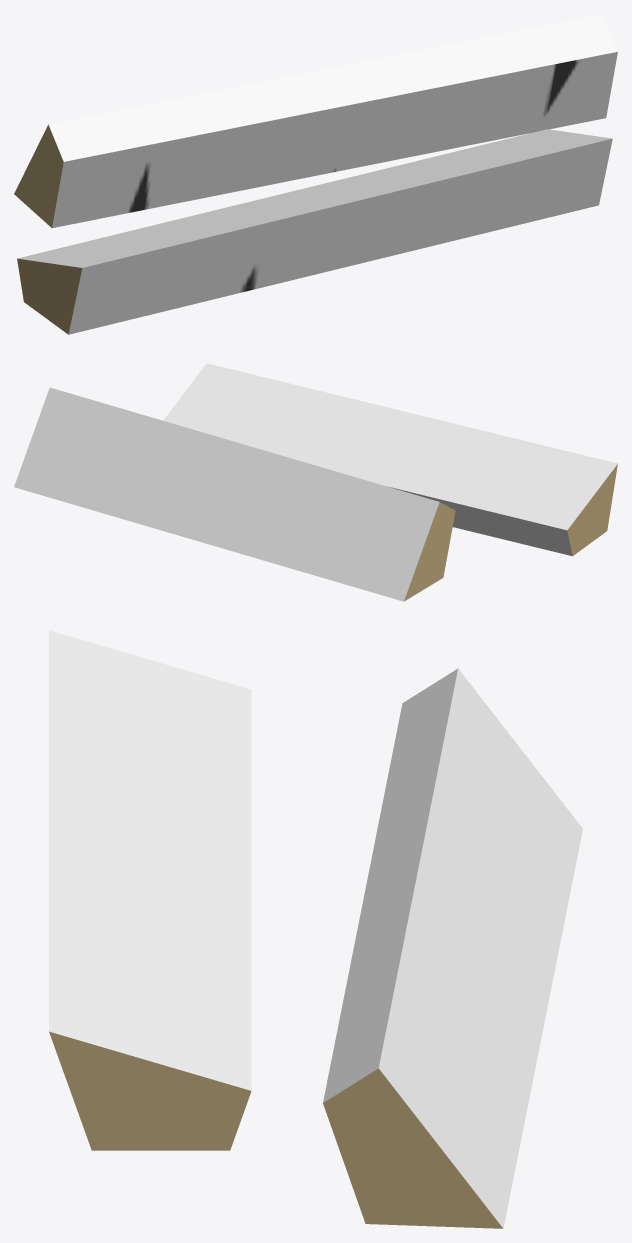
The model's file is Birch_Firewood_Snow_06.fbx.
3 views of the same model, one above another, from view 1: azimuth 30°, elevation 25°; view 2: azimuth 150°, elevation 25°; view 3: azimuth 270°, elevation 25° (orthographic). The views are drawn at different scales.
Visible parts, largest first — view 1: Birch_Firewood_Snow_06; view 2: Birch_Firewood_Snow_06; view 3: Birch_Firewood_Snow_06.
Boxes of the visible parts, box(x1,y1,x2,y2) form: Birch_Firewood_Snow_06: box(14, 14, 617, 334); Birch_Firewood_Snow_06: box(14, 363, 617, 601); Birch_Firewood_Snow_06: box(49, 630, 582, 1228).
Bounding box in the file's own units: 66.77 × 10.16 × 31.49.
